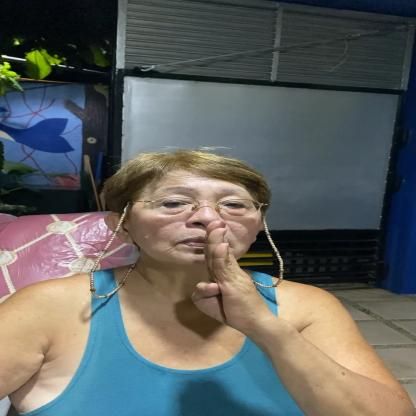Talk: (122, 148, 310, 346)
